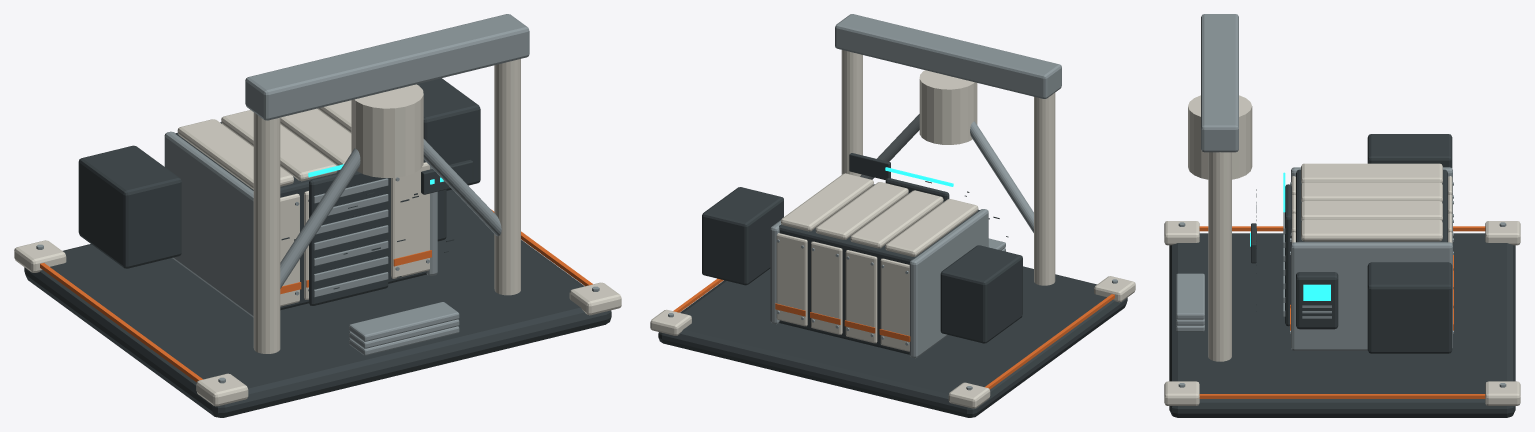
File: SM_RareMineralMine_Body.fbx
3 renders of one model, left to right at view 1: azimuth 30°, elevation 25°; view 2: azimuth 150°, elevation 25°; view 3: azimuth 270°, elevation 25°, orthographic. The views are drawn at different scales.
Parts seen in each view (by area): view 1: SM_RareMineralMine_Body; view 2: SM_RareMineralMine_Body; view 3: SM_RareMineralMine_Body.
Part boxes in pixels (x1=…): SM_RareMineralMine_Body: x1=14, y1=14, x2=621, y2=417; SM_RareMineralMine_Body: x1=650, y1=14, x2=1135, y2=417; SM_RareMineralMine_Body: x1=1164, y1=14, x2=1520, y2=417.
Size of the model in its own units: 492 by 422 by 347.
